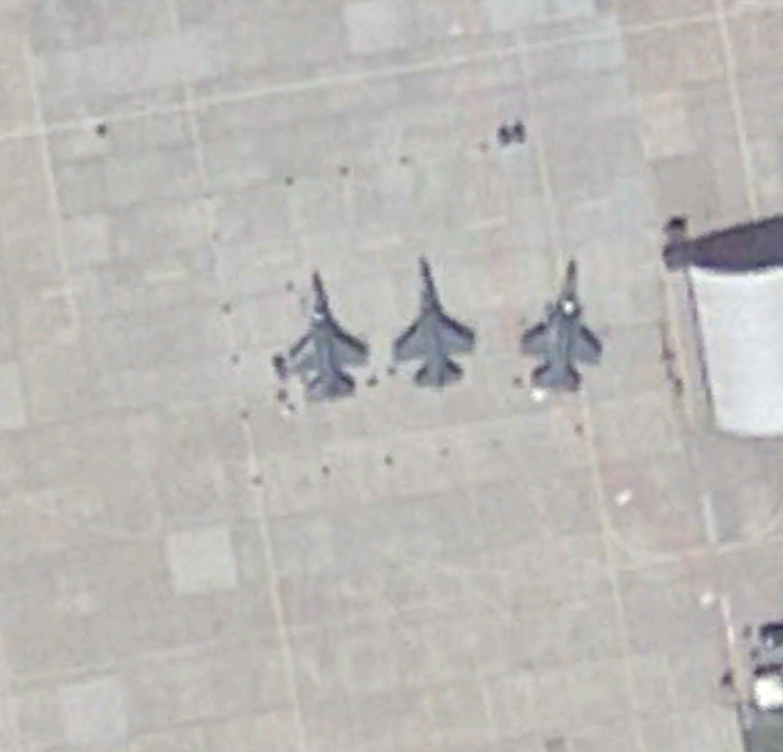A5: (271, 262, 378, 417), (382, 249, 489, 404), (507, 248, 614, 403)
